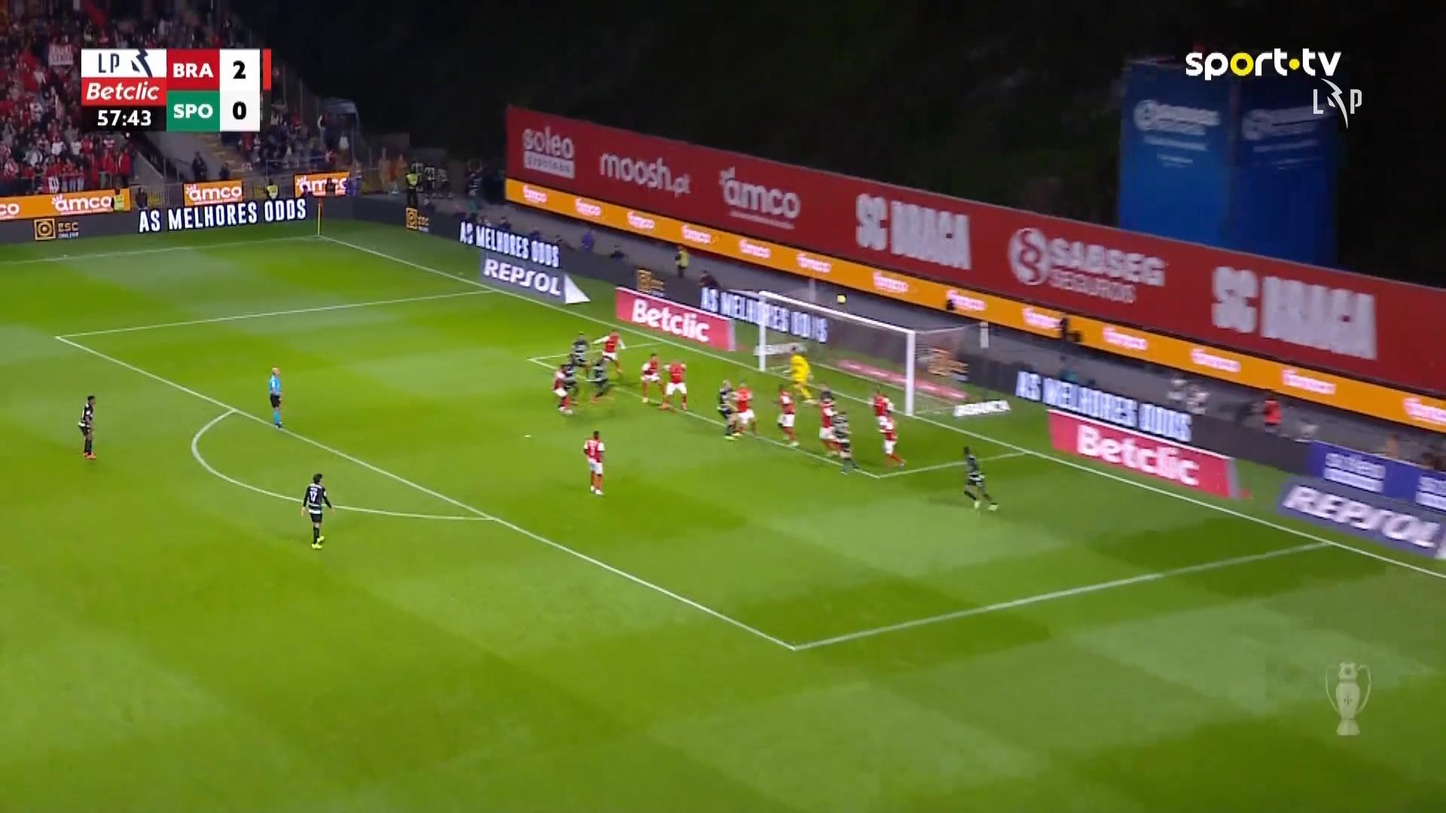ball: (836, 294, 846, 304)
goalkeeper: (786, 343, 813, 401)
player: (961, 444, 999, 511), (300, 472, 333, 549), (828, 410, 857, 474), (773, 383, 800, 447), (876, 409, 905, 467), (590, 329, 626, 375), (581, 429, 606, 495), (716, 379, 743, 439), (815, 385, 838, 455), (659, 359, 688, 411), (587, 352, 617, 401), (733, 379, 758, 436), (551, 364, 578, 415), (77, 394, 96, 459), (639, 352, 662, 403), (568, 330, 591, 379), (870, 385, 893, 426)
referee: (267, 366, 284, 428)
